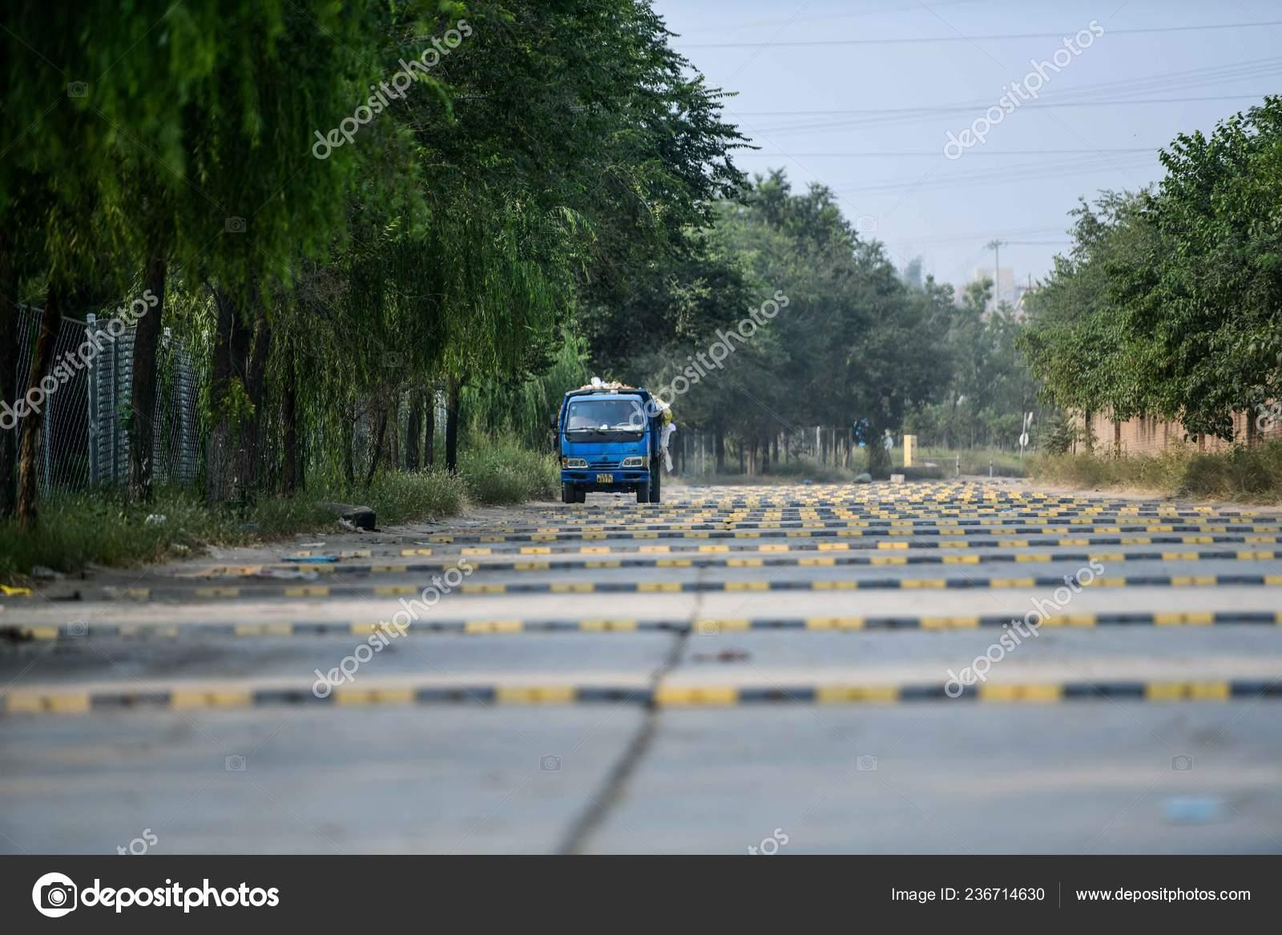Bump: (0, 674, 1281, 712), (0, 611, 1281, 646), (88, 574, 1281, 602), (210, 552, 1281, 577), (295, 536, 1280, 559), (396, 524, 1281, 544), (554, 502, 1214, 523), (455, 516, 1280, 531), (665, 484, 1046, 502), (878, 481, 1021, 484)
